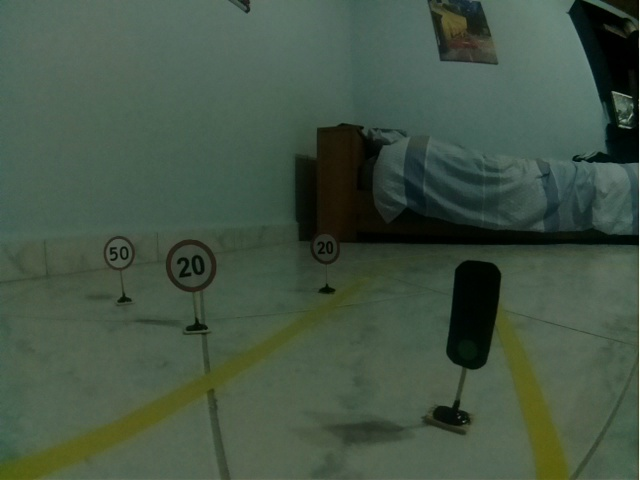Green Traffic Light: (446, 260, 502, 371)
Speed Limit 20: (165, 239, 217, 292), (310, 232, 340, 265)
Speed Limit 50: (104, 236, 135, 270)
